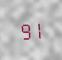nine: (19, 20, 30, 40)
one: (31, 19, 42, 39)
